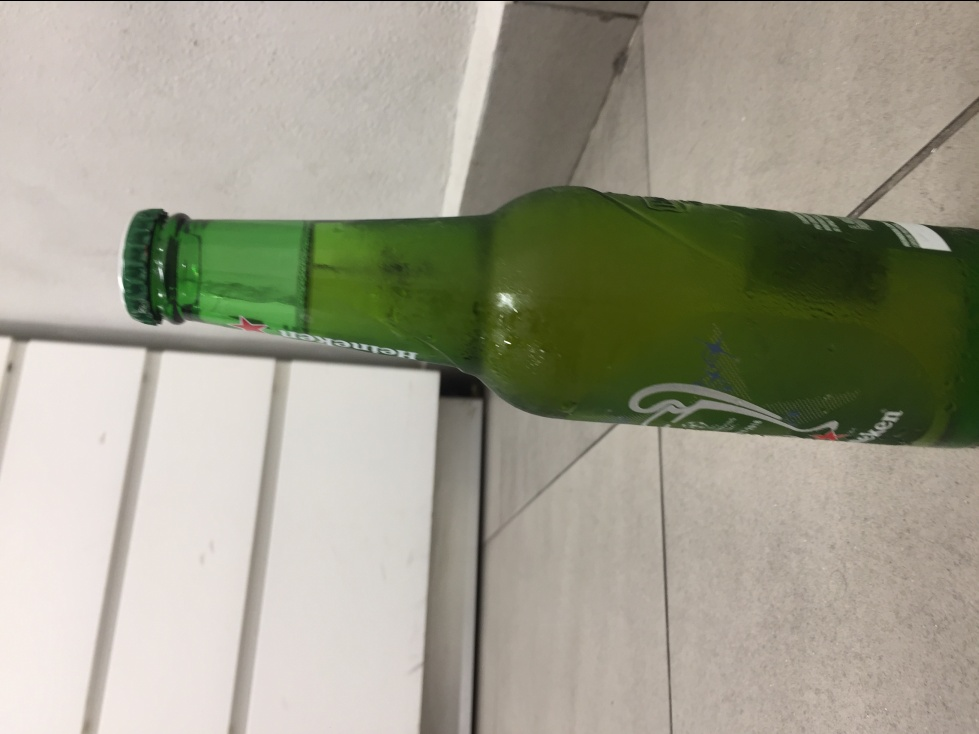heineken: (117, 181, 979, 453)
